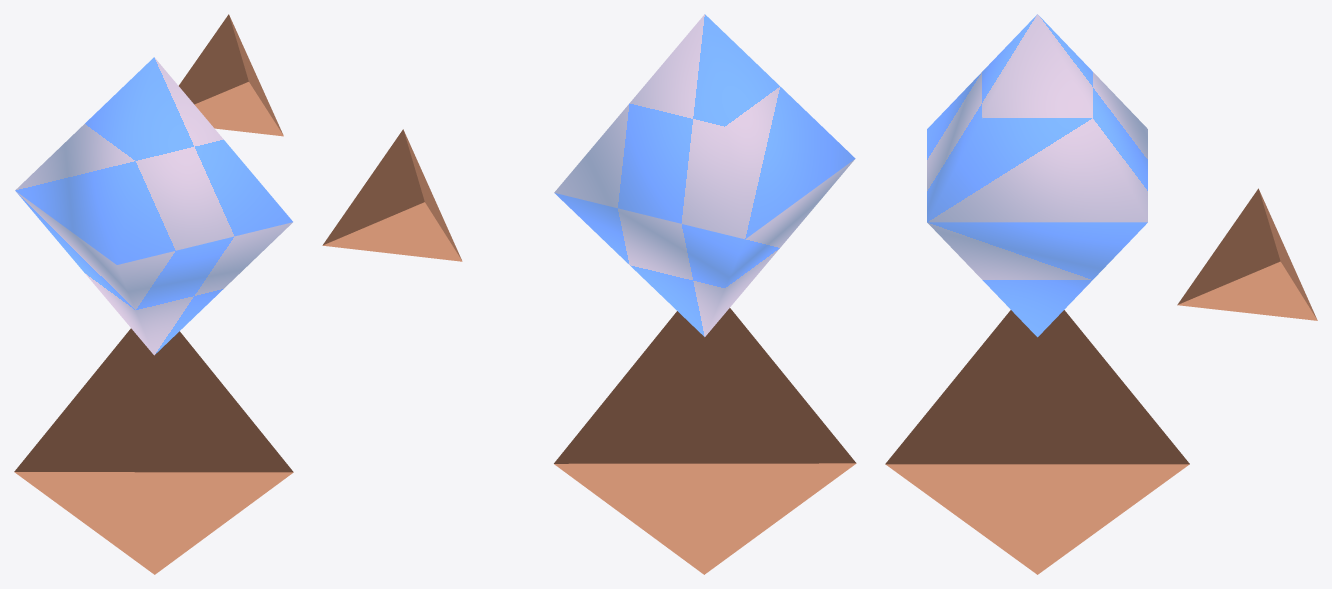
3 views of the same model, side by side, from view 1: azimuth 30°, elevation 25°; view 2: azimuth 150°, elevation 25°; view 3: azimuth 270°, elevation 25° (orthographic). The views are drawn at different scales.
Parts seen in each view (by area): view 1: gem, pedestal, satellite; view 2: gem, pedestal, satellite; view 3: gem, pedestal, satellite.
Part boxes in pixels (left/top/right/bottom): gem: left=15, top=57, right=292, bottom=355; pedestal: left=14, top=328, right=293, bottom=574; satellite: left=179, top=14, right=283, bottom=136; gem: left=554, top=14, right=855, bottom=336; pedestal: left=554, top=308, right=856, bottom=574; satellite: left=322, top=129, right=462, bottom=261; gem: left=927, top=14, right=1147, bottom=337; pedestal: left=885, top=310, right=1189, bottom=574; satellite: left=1177, top=188, right=1317, bottom=320.
Size of the model in its own units: 2.1 by 2.89 by 2.33.
2 materials, 1 textured.
